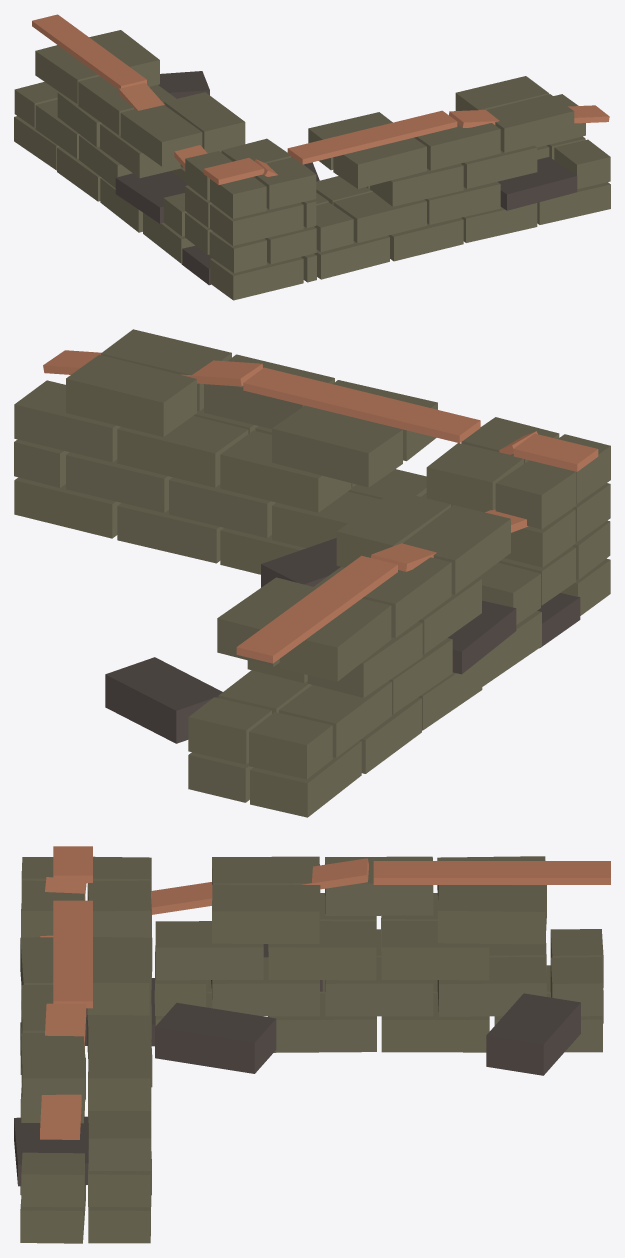
File: SM_PretilEsquina_v3_Tablon_e1_Danado_LOD0.fbx
3 views of the same model, one above another, from view 1: azimuth 30°, elevation 25°; view 2: azimuth 150°, elevation 25°; view 3: azimuth 270°, elevation 25° (orthographic). The views are drawn at different scales.
Parts seen in each view (by area): view 1: SM_pretil_azotea_v33_LOD0; view 2: SM_pretil_azotea_v33_LOD0; view 3: SM_pretil_azotea_v33_LOD0.
Boxes of the visible parts, x1,y1,x2,y2 form: SM_pretil_azotea_v33_LOD0: (14, 14, 610, 300); SM_pretil_azotea_v33_LOD0: (14, 329, 610, 817); SM_pretil_azotea_v33_LOD0: (14, 846, 610, 1243).
Size of the model in its own units: 4.5 by 1.26 by 4.49.
